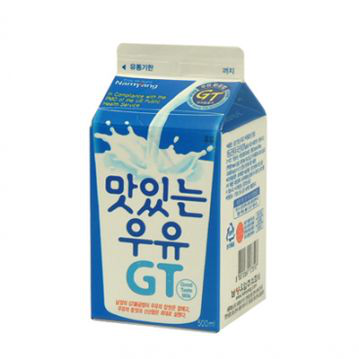milk: (90, 44, 266, 332)
